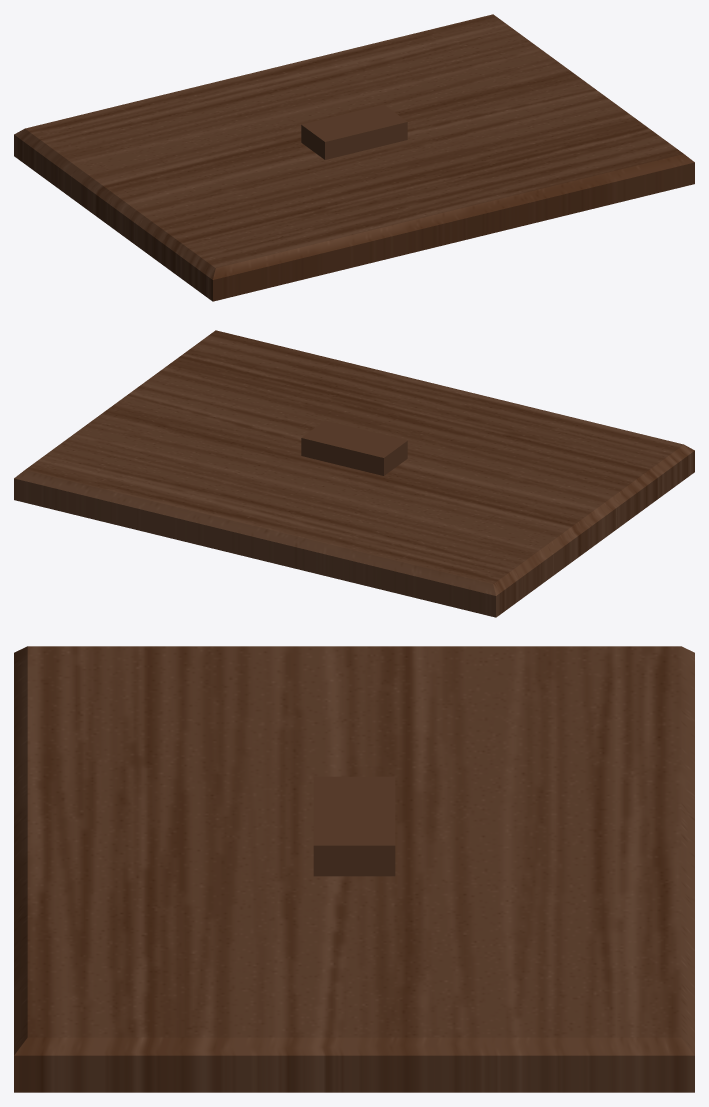
The model's file is lid_3_2.glb.
The picture shows the model from 3 angles, top to bottom: view 1: azimuth 30°, elevation 25°; view 2: azimuth 150°, elevation 25°; view 3: azimuth 270°, elevation 25°; orthographic projection. The views are drawn at different scales.
Parts seen in each view (by area): view 1: lid_3_2; view 2: lid_3_2; view 3: lid_3_2.
Boxes of the visible parts, bbox=[...] form: lid_3_2: bbox=[14, 14, 694, 301]; lid_3_2: bbox=[14, 330, 694, 617]; lid_3_2: bbox=[14, 646, 694, 1092].
Size of the model in its own units: 0.14 by 0.013 by 0.1.
1 material, 1 textured.
